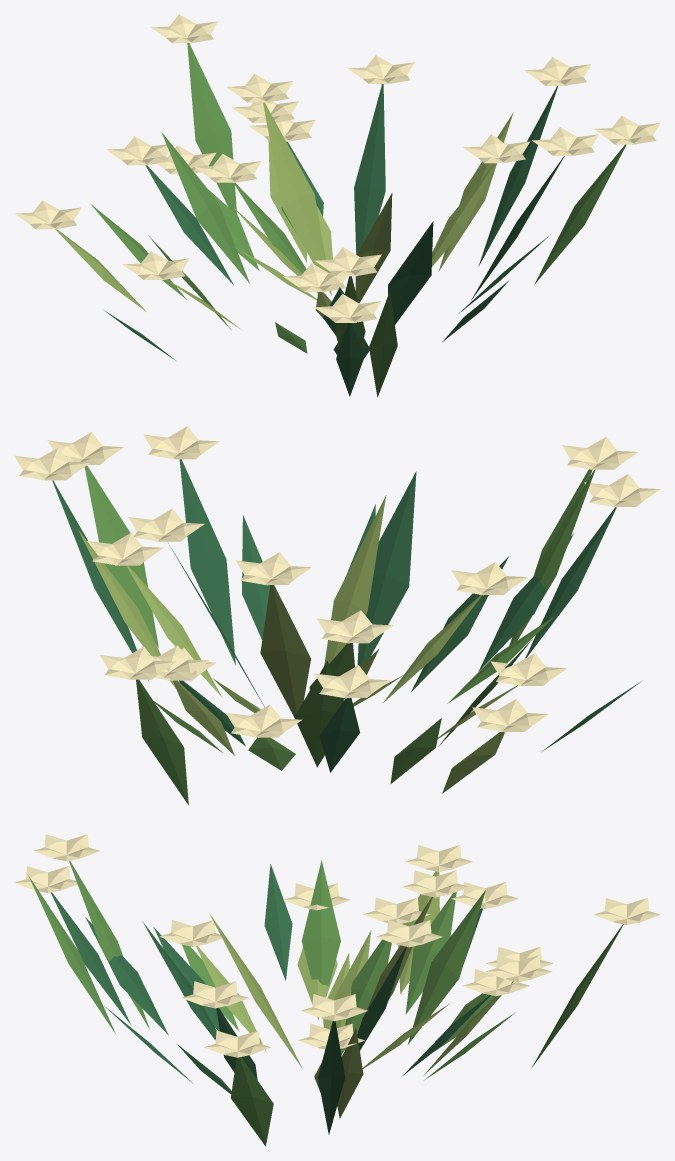
Rendered from wildflowers_cream.glb.
3 renders of one model, top to bottom at view 1: azimuth 30°, elevation 25°; view 2: azimuth 150°, elevation 25°; view 3: azimuth 270°, elevation 25°, orthographic. The views are drawn at different scales.
Visible parts, largest first — view 1: wildflowers_cream; view 2: wildflowers_cream; view 3: wildflowers_cream.
Boxes of the visible parts, bbox=[...] form: wildflowers_cream: bbox=[14, 14, 660, 397]; wildflowers_cream: bbox=[14, 426, 660, 805]; wildflowers_cream: bbox=[14, 834, 660, 1146].
Size of the model in its own units: 2.23 by 0.7122 by 2.35.
